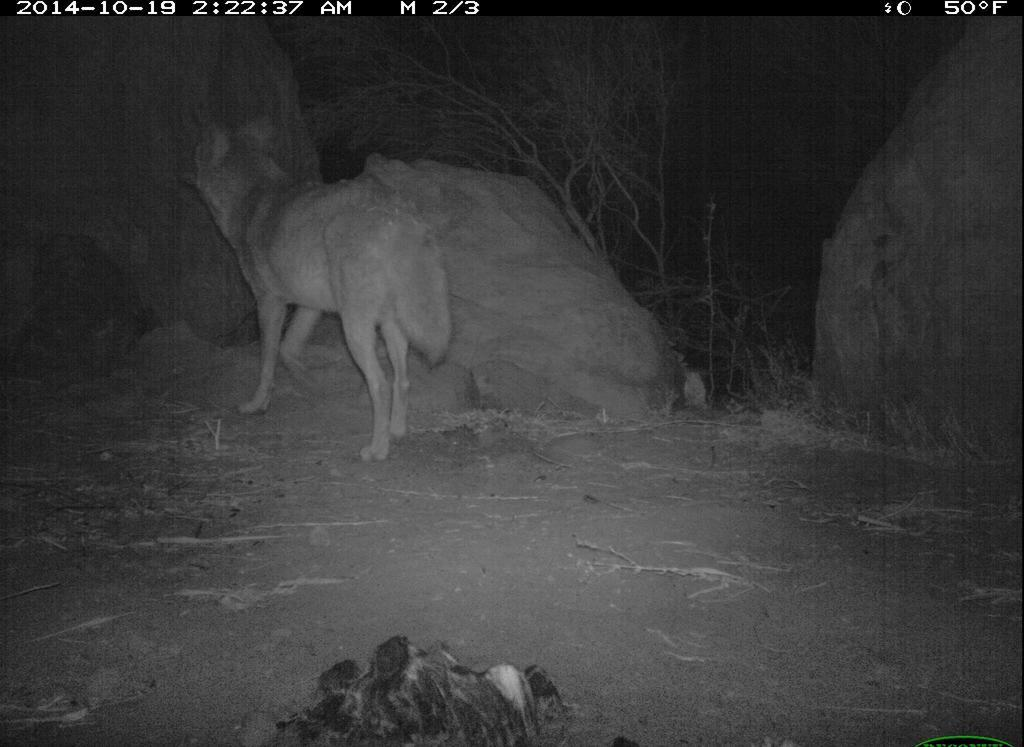coyote: (171, 96, 497, 482)
